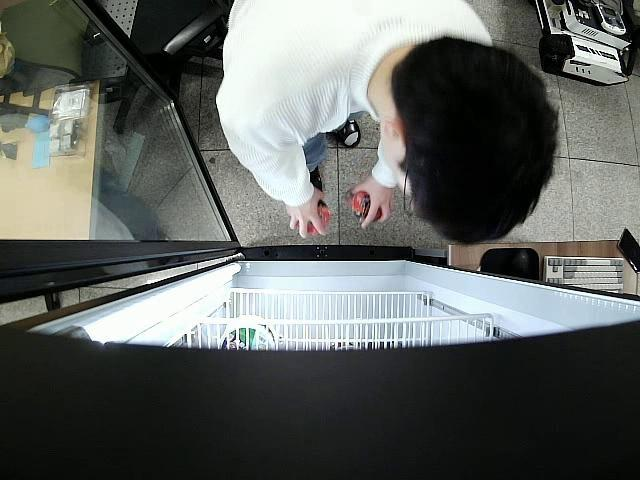02_shinRamen_S: (342, 190, 382, 222), (295, 200, 330, 234)
